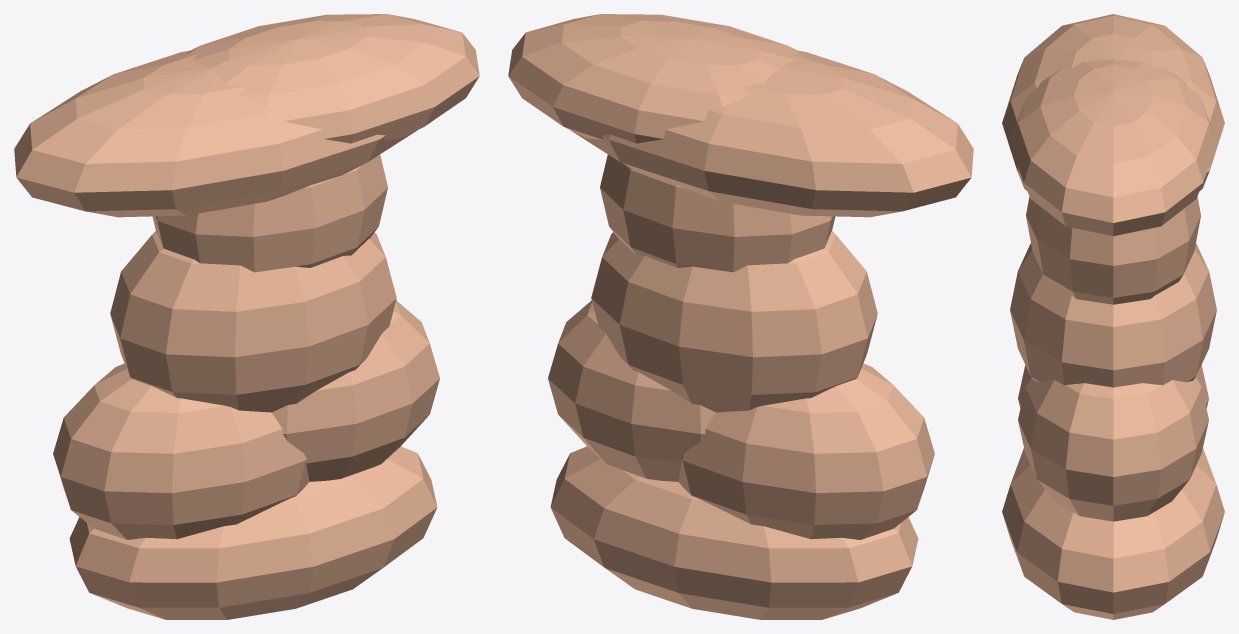
File: west_cumulus.obj
The picture shows the model from 3 angles, left to right: view 1: azimuth 30°, elevation 25°; view 2: azimuth 150°, elevation 25°; view 3: azimuth 270°, elevation 25°; orthographic projection. The views are drawn at different scales.
Visible parts, largest first — view 1: WestCumulus; view 2: WestCumulus; view 3: WestCumulus.
Part boxes in pixels (x1,y1,x2,y2): WestCumulus: (14,14,479,619); WestCumulus: (508,14,973,619); WestCumulus: (1002,14,1224,619).
Size of the model in its own units: 31 by 35.5 by 14.
